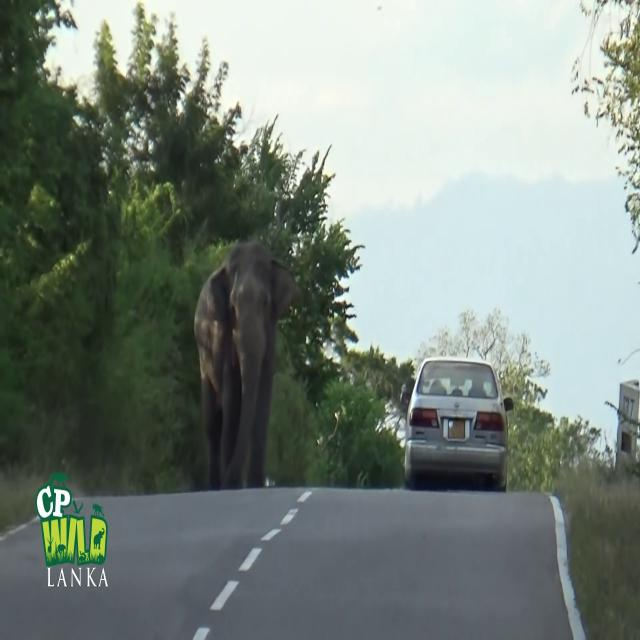Elephant: (193, 240, 300, 489)
